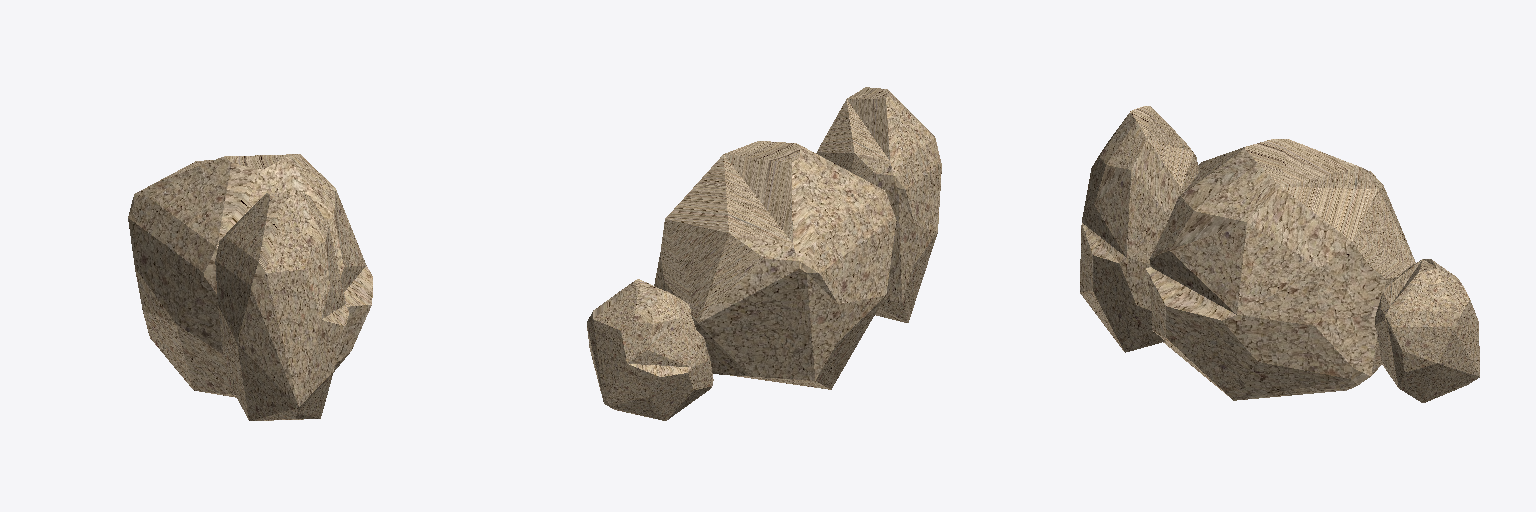
3 renders of one model, left to right at view 1: azimuth 30°, elevation 25°; view 2: azimuth 150°, elevation 25°; view 3: azimuth 270°, elevation 25°, orthographic.
Visible parts, largest first — view 1: Icosphere.001, Icosphere; view 2: Icosphere.001, Icosphere, Icosphere.002; view 3: Icosphere.001, Icosphere, Icosphere.002.
Boxes of the visible parts, <box> form: Icosphere.001: <box>128,154,372,397</box>; Icosphere: <box>215,192,348,420</box>; Icosphere.001: <box>654,141,896,389</box>; Icosphere: <box>816,87,941,322</box>; Icosphere.002: <box>587,279,713,420</box>; Icosphere.001: <box>1146,139,1415,400</box>; Icosphere: <box>1080,106,1198,352</box>; Icosphere.002: <box>1375,259,1479,402</box>.
Size of the model in its own units: 0.3139 by 0.3729 by 0.5484.
Materials: 3 (1 with a texture image).